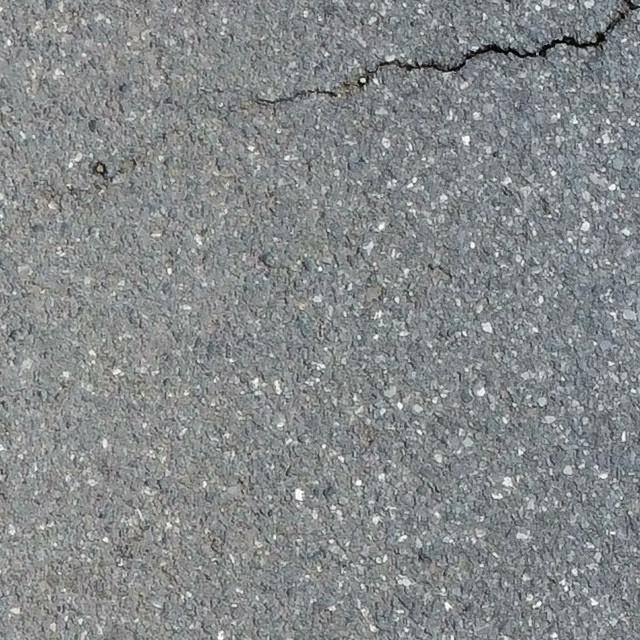TransverseCrack: (254, 1, 640, 113)
